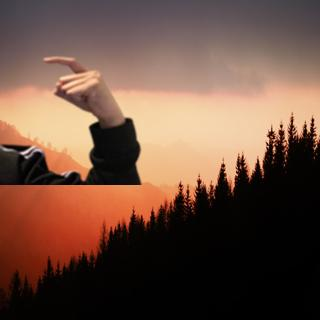WHY: (39, 49, 125, 125)
